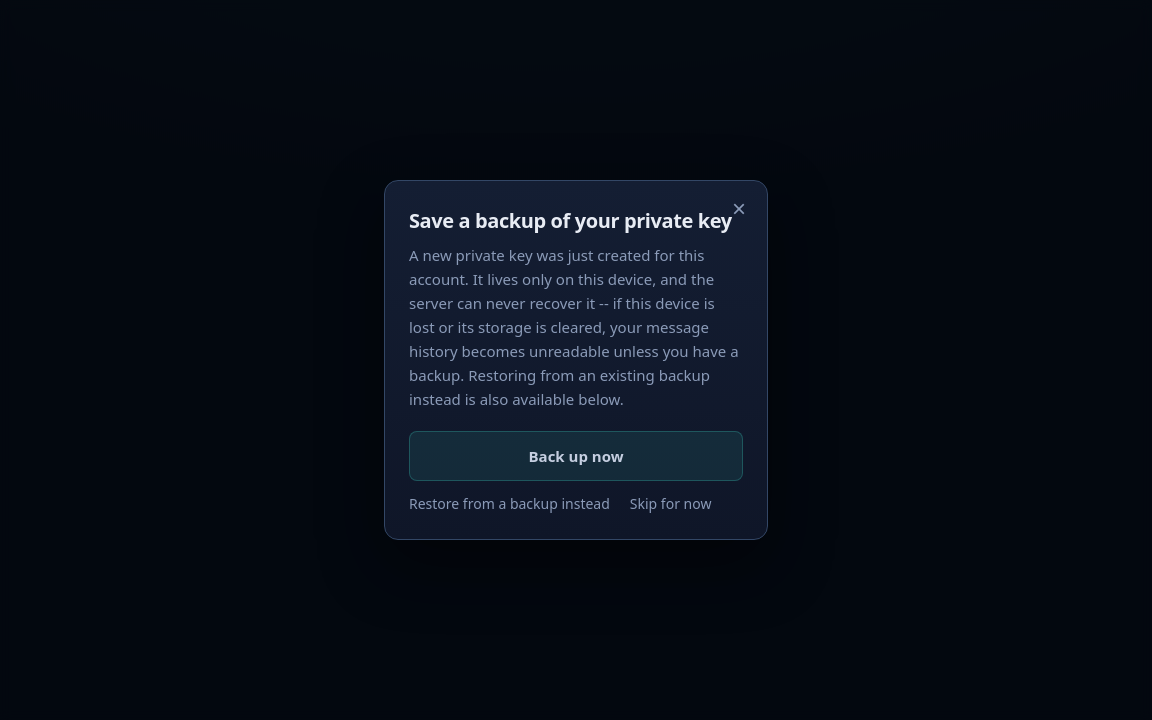
Test case: IdentityBackupPrompt › switches to the restore dialog on Restore from a backup instead
The width and height of the screenshot is (1152, 720).
Click the button "Restore from a backup instead": (509, 504) [409,493,610,515]
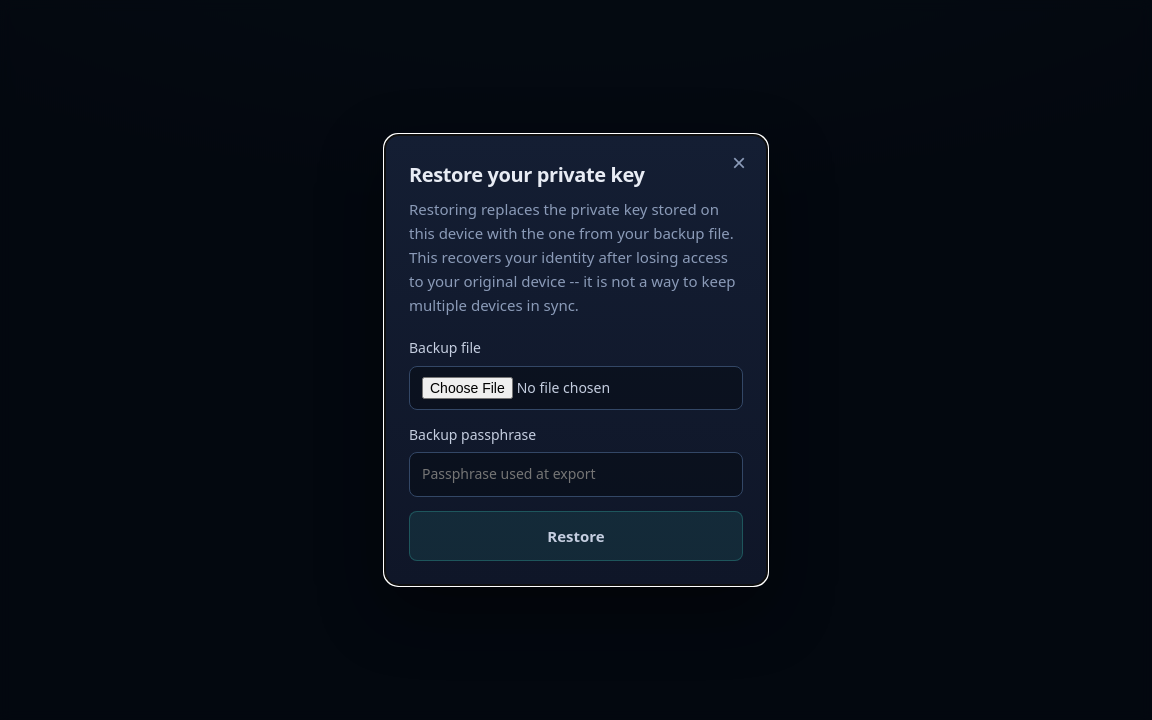
Check: the heading "Restore your private key" is shown, box [409,161,644,188]
